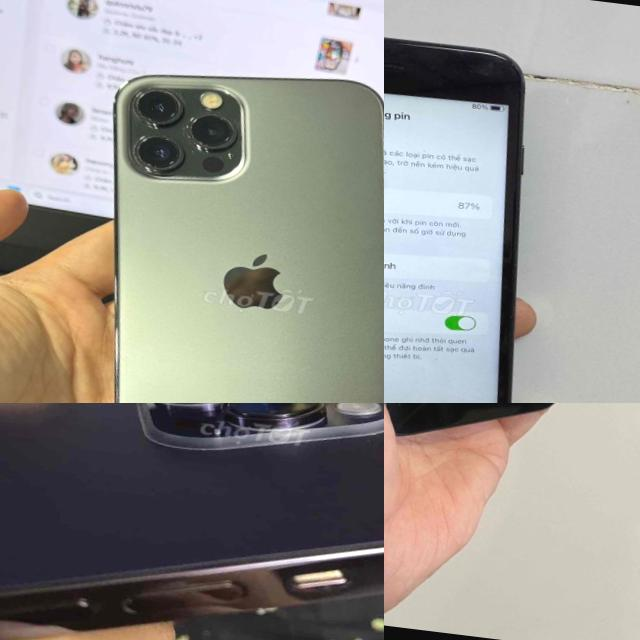scratch: (459, 42, 534, 92), (384, 49, 412, 78)
